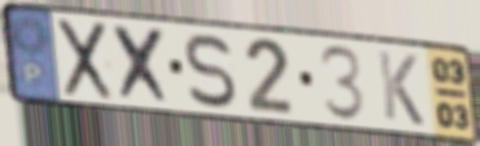2: (246, 36, 299, 119)
3: (318, 42, 367, 122)
K: (375, 48, 427, 129)
S: (182, 31, 239, 111)
X: (109, 21, 176, 108), (55, 16, 115, 103)
